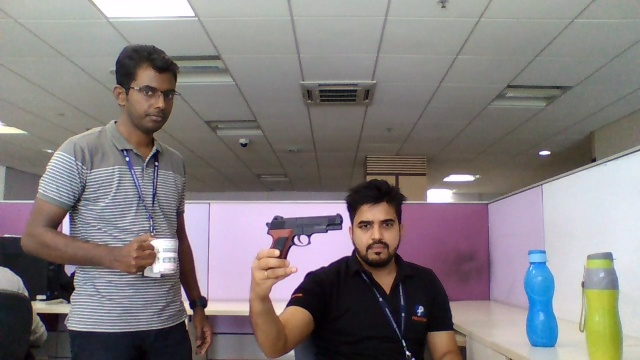gun: (264, 211, 345, 250)
